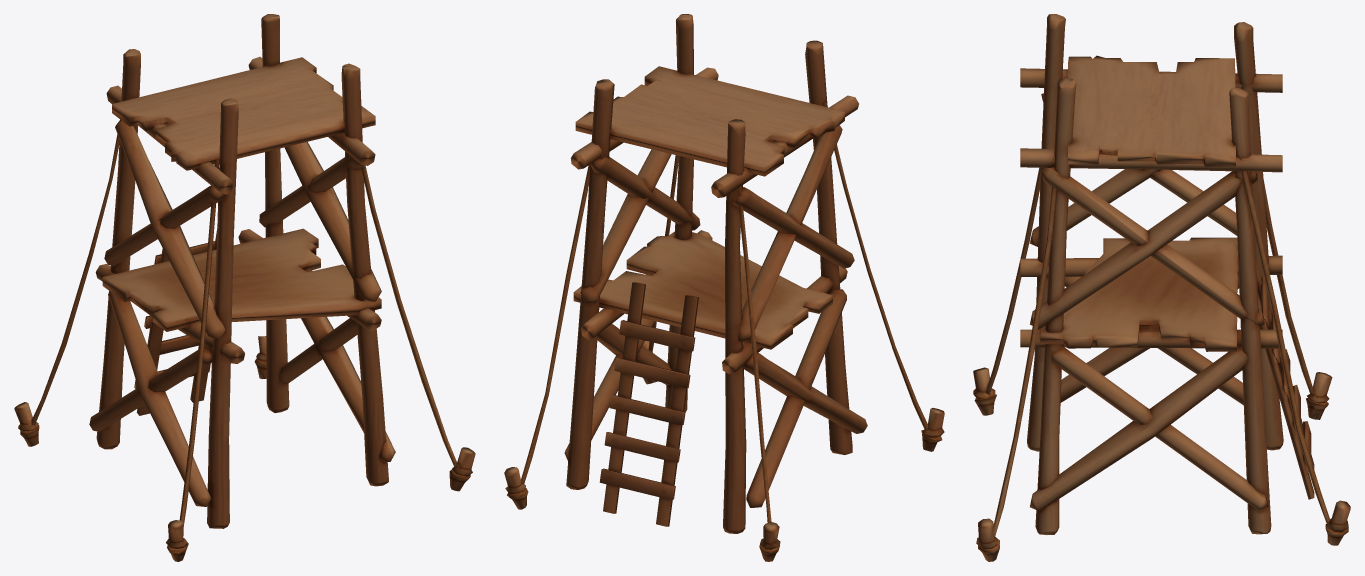
The model's file is map_scaffold_tripo.glb.
The picture shows the model from 3 angles, left to right: view 1: azimuth 30°, elevation 25°; view 2: azimuth 150°, elevation 25°; view 3: azimuth 270°, elevation 25°; orthographic projection. The views are drawn at different scales.
Visible parts, largest first — view 1: tripo_node_3d9eaf4d-678b-4d39-88f4-6908a2ad627c; view 2: tripo_node_3d9eaf4d-678b-4d39-88f4-6908a2ad627c; view 3: tripo_node_3d9eaf4d-678b-4d39-88f4-6908a2ad627c.
Part boxes in pixels (x1,y1,x2,y2): tripo_node_3d9eaf4d-678b-4d39-88f4-6908a2ad627c: (14, 14, 475, 561); tripo_node_3d9eaf4d-678b-4d39-88f4-6908a2ad627c: (504, 14, 944, 561); tripo_node_3d9eaf4d-678b-4d39-88f4-6908a2ad627c: (973, 14, 1350, 561).
Bounding box in the file's own units: 0.7754 × 0.998 × 0.7715.
Materials: 1 (1 with a texture image).
